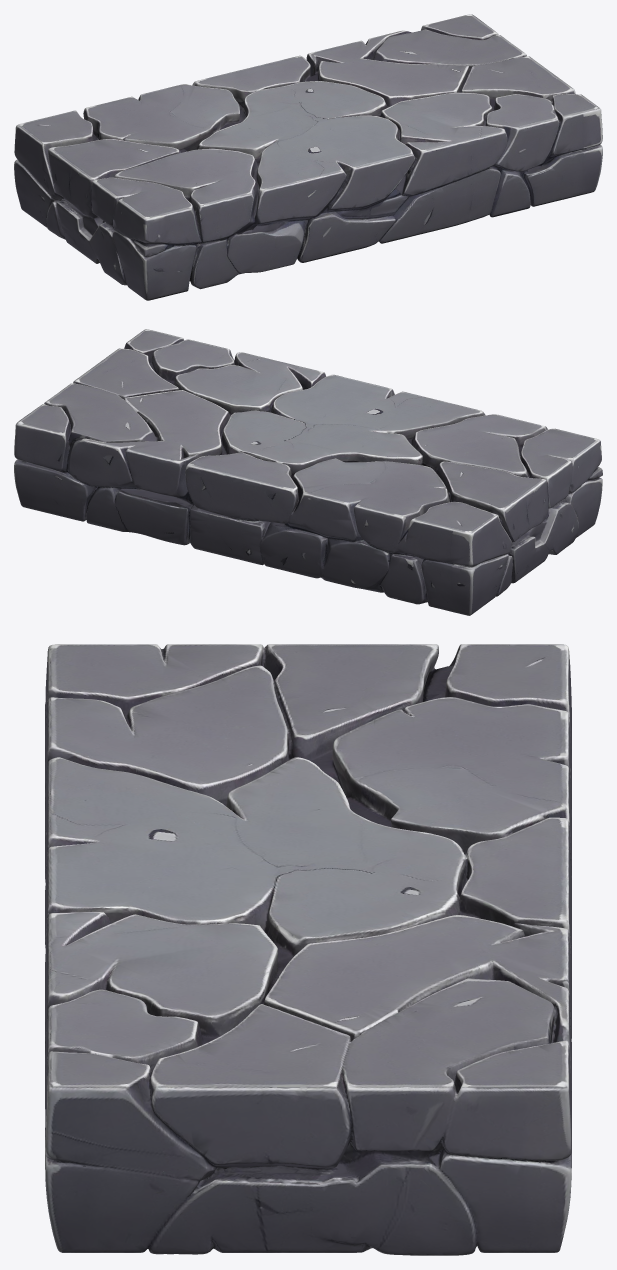
The model's file is long_stone_tile1_final.glb.
The picture shows the model from 3 angles, top to bottom: view 1: azimuth 30°, elevation 25°; view 2: azimuth 150°, elevation 25°; view 3: azimuth 270°, elevation 25°; orthographic projection. The views are drawn at different scales.
Bounding box in the file's own units: 1.9 × 0.3375 × 0.9448.
1 material, 1 textured.
